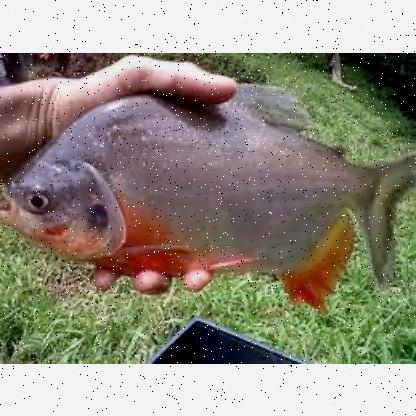ikan-pacu: (7, 90, 396, 288)
